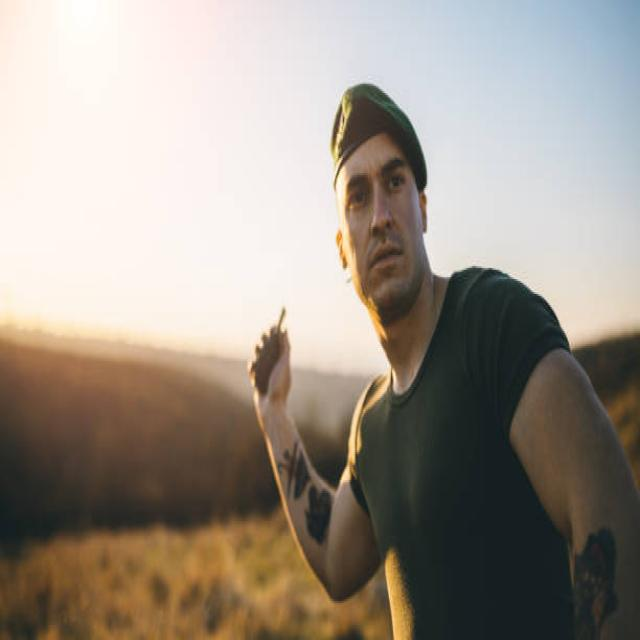grenade: (251, 304, 289, 398)
